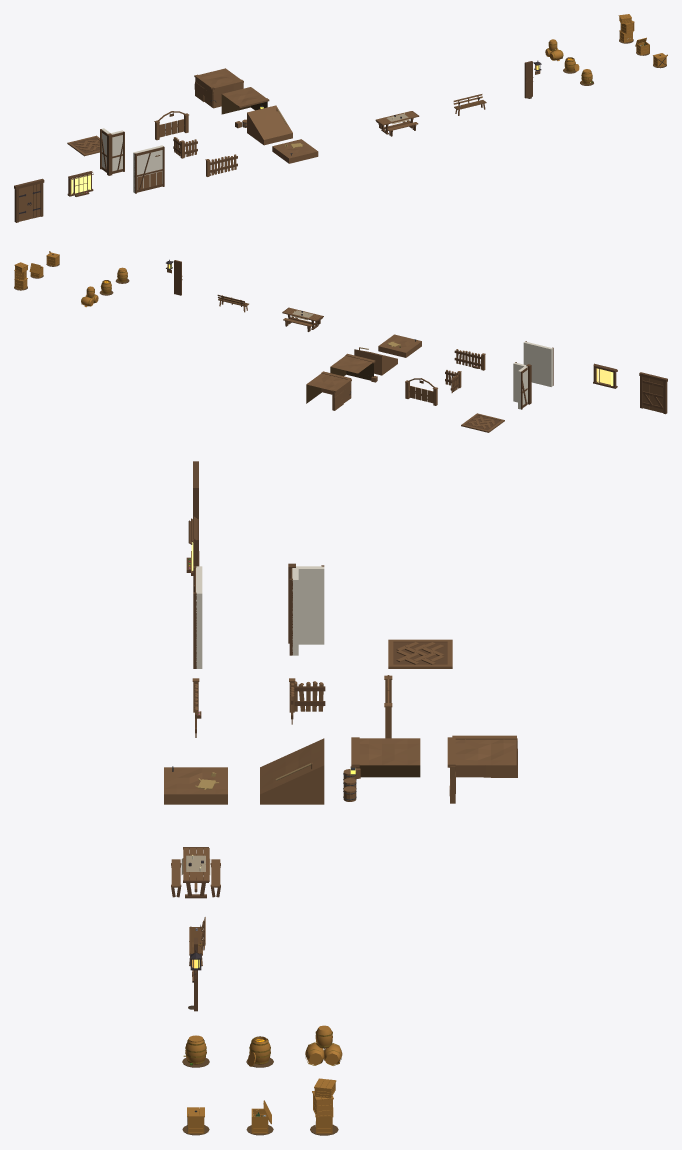
Rendered from Tavern_FullBuild.glb.
3 views of the same model, one above another, from view 1: azimuth 30°, elevation 25°; view 2: azimuth 150°, elevation 25°; view 3: azimuth 270°, elevation 25° (orthographic). The views are drawn at different scales.
Parts seen in each view (by area): view 1: SM_Terrain_Tavern_02_Slope_Ramp, SM_Terrain_Tavern_02_Cliff_Wall, SM_Wall_TavernFrame_02_Straight_Panel, SM_Terrain_Tavern_02_Flat_Deck, SM_Terrain_Tavern_02_Corner_Wall, SM_Wall_TavernFrame_02_Corner_PanelX; view 2: SM_Wall_TavernFrame_02_Straight_Panel, SM_Terrain_Tavern_02_Cliff_Wall, SM_Terrain_Tavern_02_Flat_Deck, SM_Terrain_Tavern_02_Corner_Wall, SM_Terrain_Tavern_02_Slope_Ramp, SM_Wall_TavernFrame_02_Corner_PanelY; view 3: SM_Terrain_Tavern_02_Slope_Ramp, SM_Terrain_Tavern_02_Cliff_Wall, SM_Terrain_Tavern_02_Flat_Deck, SM_Wall_TavernFrame_02_Corner_PanelY, SM_Terrain_Tavern_02_Corner_Wall.
Boxes of the visible parts, left/top/right/bottom form: SM_Terrain_Tavern_02_Slope_Ramp: left=247, top=105, right=292, bottom=145; SM_Terrain_Tavern_02_Cliff_Wall: left=221, top=87, right=267, bottom=114; SM_Wall_TavernFrame_02_Straight_Panel: left=133, top=145, right=163, bottom=192; SM_Terrain_Tavern_02_Flat_Deck: left=272, top=139, right=318, bottom=163; SM_Terrain_Tavern_02_Corner_Wall: left=199, top=68, right=240, bottom=86; SM_Wall_TavernFrame_02_Corner_PanelX: left=111, top=130, right=123, bottom=171; SM_Wall_TavernFrame_02_Straight_Panel: left=523, top=341, right=552, bottom=386; SM_Terrain_Tavern_02_Cliff_Wall: left=330, top=355, right=373, bottom=380; SM_Terrain_Tavern_02_Flat_Deck: left=378, top=334, right=421, bottom=357; SM_Terrain_Tavern_02_Corner_Wall: left=306, top=373, right=346, bottom=403; SM_Terrain_Tavern_02_Slope_Ramp: left=354, top=349, right=397, bottom=375; SM_Wall_TavernFrame_02_Corner_PanelY: left=518, top=366, right=527, bottom=409; SM_Terrain_Tavern_02_Slope_Ramp: left=260, top=738, right=324, bottom=804; SM_Terrain_Tavern_02_Cliff_Wall: left=356, top=738, right=420, bottom=777; SM_Terrain_Tavern_02_Flat_Deck: left=164, top=767, right=227, bottom=804; SM_Wall_TavernFrame_02_Corner_PanelY: left=298, top=566, right=324, bottom=644; SM_Terrain_Tavern_02_Corner_Wall: left=455, top=739, right=516, bottom=765.
Bounding box in the file's own units: 44.67 × 2.7 × 11.04.
